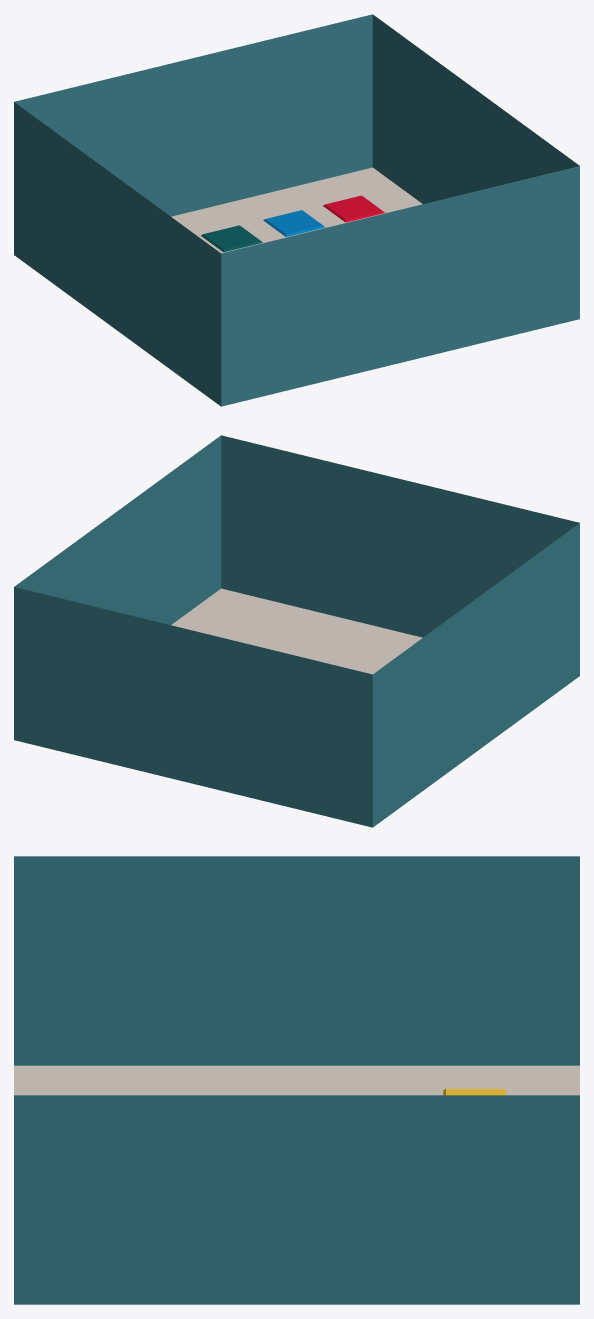
The model's file is Lobby_Hide_in_Seek.fbx.
3 renders of one model, top to bottom at view 1: azimuth 30°, elevation 25°; view 2: azimuth 150°, elevation 25°; view 3: azimuth 270°, elevation 25°, orthographic. The views are drawn at different scales.
Visible parts, largest first — view 1: Lobby, Plataforma_Azul, Plataforma_Zumbi, Plataforma_Vermelha; view 2: Lobby; view 3: Lobby.
Boxes of the visible parts, x1=… form: Lobby: x1=14, y1=14, x2=579, y2=406; Plataforma_Azul: x1=263, y1=210, x2=325, y2=236; Plataforma_Zumbi: x1=201, y1=225, x2=262, y2=252; Plataforma_Vermelha: x1=323, y1=195, x2=384, y2=222; Lobby: x1=14, y1=435, x2=579, y2=827; Lobby: x1=14, y1=856, x2=579, y2=1304.
Size of the model in its own units: 200 by 81.59 by 200.
